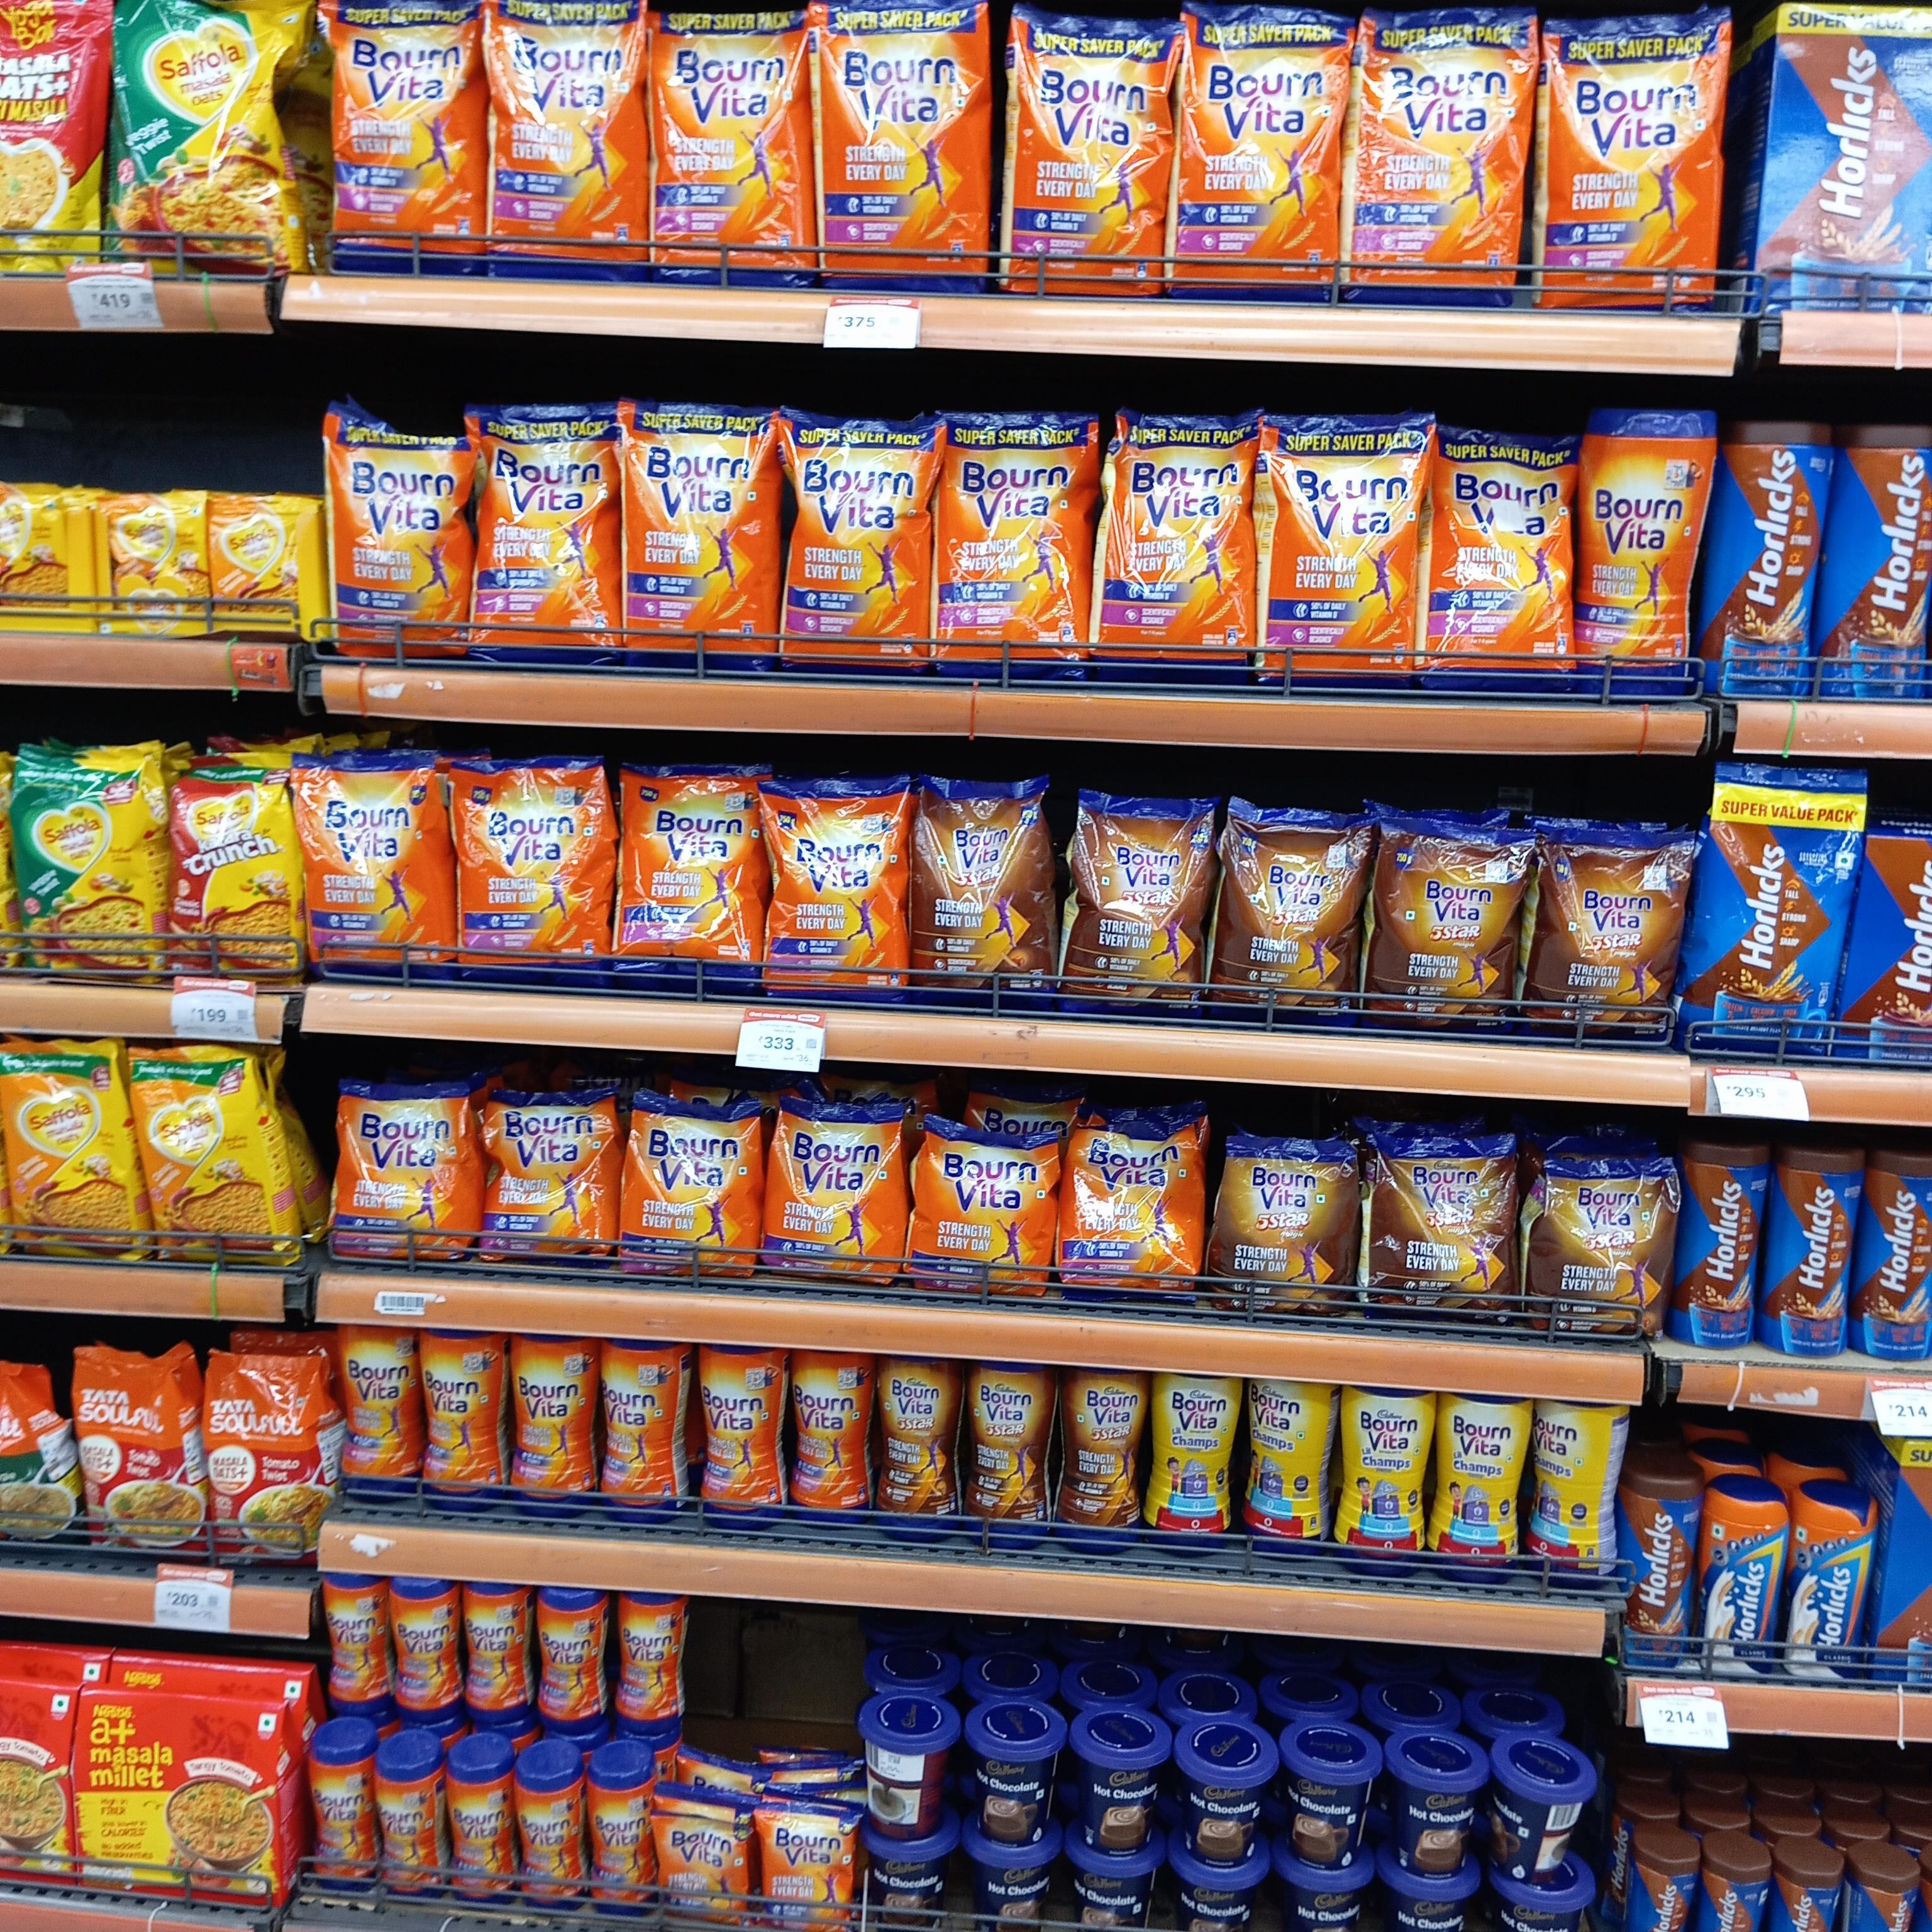BOURN_VITA_1_KG_JAR: (1583, 396, 1697, 708)
BOURN_VITA_1_KG_POUCH: (1552, 19, 1720, 315), (1359, 11, 1525, 308), (821, 5, 984, 292), (1185, 5, 1339, 303), (490, 0, 646, 285), (649, 5, 805, 287), (1017, 5, 1166, 299), (623, 405, 775, 678), (1108, 412, 1256, 686), (947, 418, 1095, 688), (333, 0, 474, 278), (1272, 425, 1415, 685), (791, 407, 924, 685), (1430, 425, 1562, 694), (478, 407, 610, 667), (326, 418, 460, 662)
BOURN_VITA_200_G_JAR: (306, 1736, 377, 1898), (591, 1762, 651, 1930), (610, 1589, 679, 1734), (444, 1750, 508, 1905), (513, 1760, 579, 1911), (467, 1578, 533, 1729), (536, 1580, 600, 1730), (393, 1578, 460, 1720), (377, 1752, 439, 1904), (320, 1569, 386, 1713)
BOURN_VITA_500_G_JAR: (416, 1330, 502, 1514), (506, 1329, 593, 1509), (699, 1343, 780, 1534), (602, 1338, 683, 1529), (341, 1322, 414, 1511), (794, 1353, 867, 1530)
BOURN_VITA_500_G_POUCH: (621, 1086, 759, 1290), (333, 1086, 474, 1272), (918, 1118, 1053, 1306), (1063, 1125, 1191, 1313), (483, 1083, 610, 1270), (771, 1102, 901, 1284)
BOURN_VITA_750_G_POUCH: (456, 755, 603, 984), (621, 763, 764, 994), (299, 754, 446, 978), (771, 780, 908, 1001)
BOURN_VITA_75_G_POUCH: (656, 1812, 752, 1932), (763, 1812, 853, 1932)
BOURN_VITA_CHAMPS_500_G_JAR: (1438, 1392, 1529, 1589), (1238, 1368, 1323, 1559), (1346, 1382, 1433, 1568), (1154, 1371, 1240, 1557), (1532, 1401, 1601, 1587)
BOURN_VITA_FIVE_STAR_MAGIC_500_G_JAR: (1065, 1361, 1154, 1560), (962, 1362, 1051, 1557), (872, 1352, 961, 1546)
BOURN_VITA_FIVE_STAR_MAGIC_500_G_POUCH: (1373, 1127, 1509, 1330), (1534, 1152, 1674, 1345), (1205, 1139, 1346, 1323)
BOURN_VITA_FIVE_STAR_MAGIC_750_G_POUCH: (1539, 826, 1688, 1040), (1074, 794, 1214, 1021), (1369, 817, 1518, 1030), (915, 780, 1049, 1008), (1223, 807, 1362, 1021)
HORLICK_CHOCOLATE_1_KG_JAR: (1721, 419, 1824, 702), (1833, 426, 1932, 713)
HORLICK_CHOCOLATE_1_KG_PACK: (1769, 0, 1932, 329)
HORLICK_CHOCOLATE_500_G_JAR: (1776, 1148, 1858, 1357), (1683, 1139, 1760, 1346), (1863, 1145, 1932, 1366)
HORLICK_CHOCOLATE_500_G_PACK: (1619, 1465, 1698, 1665)
HORLICK_CHOCOLATE_750_G_POUCH: (1706, 755, 1849, 1060)
HORLICK_CLASSIC_MALT_500_G_JAR: (1790, 1495, 1875, 1690), (1707, 1490, 1790, 1683)
